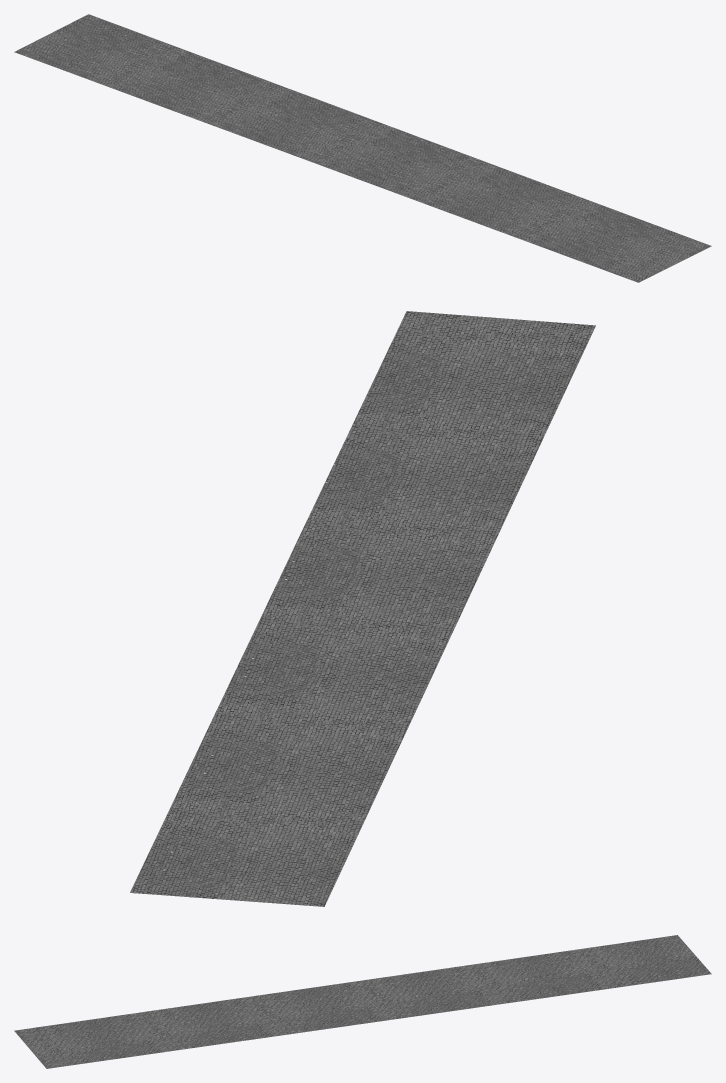
Rendered from JRP_OLD_Road_B.FBX.
3 views of the same model, one above another, from view 1: azimuth 30°, elevation 25°; view 2: azimuth 150°, elevation 25°; view 3: azimuth 270°, elevation 25° (orthographic). The views are drawn at different scales.
Parts seen in each view (by area): view 1: road_old004; view 2: road_old004; view 3: road_old004.
Boxes of the visible parts, x1,y1,x2,y2 form: road_old004: [14, 14, 711, 282]; road_old004: [130, 311, 595, 906]; road_old004: [14, 935, 711, 1068].
Size of the model in its own units: 4977 by 6.7e-13 by 10959.
Materials: 1 (1 with a texture image).
